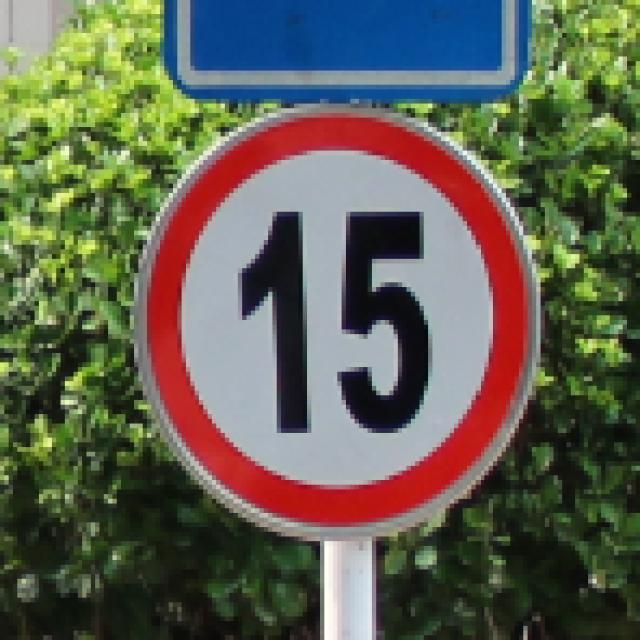Speed: (105, 103, 552, 544)
